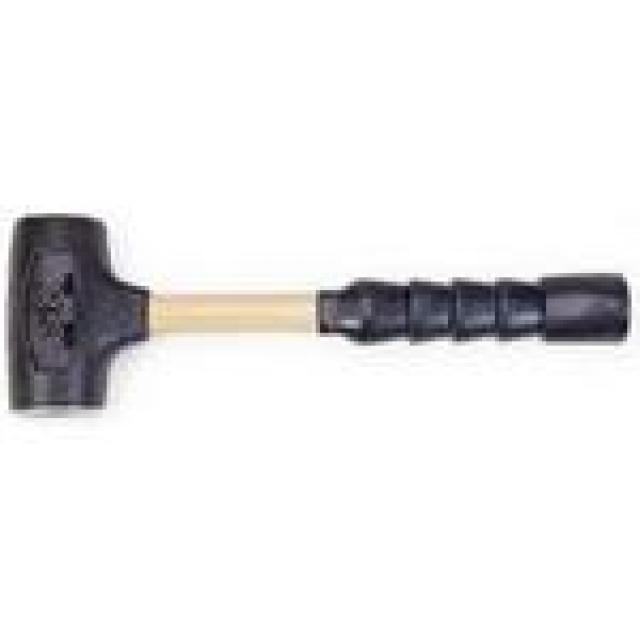hammer: (0, 196, 640, 430)
